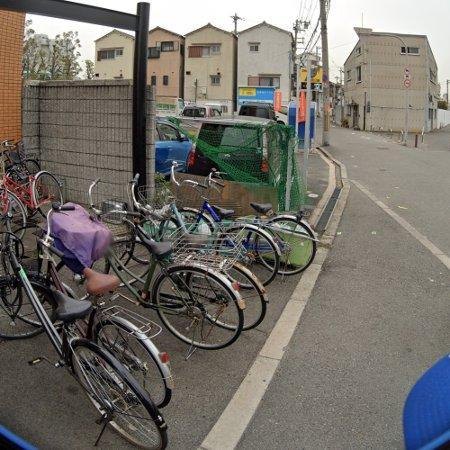bicycles: (0, 233, 167, 450), (106, 224, 245, 350), (77, 268, 174, 409), (189, 197, 319, 275), (174, 234, 269, 330), (38, 205, 73, 296), (207, 171, 223, 189)
